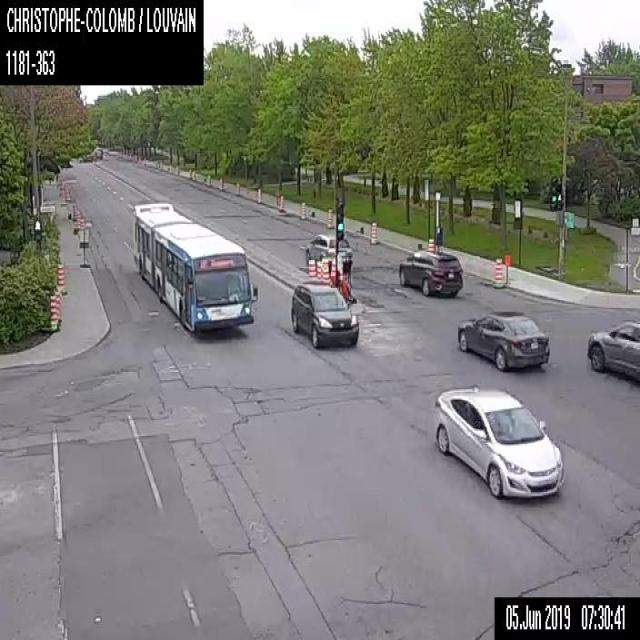bus: (132, 199, 257, 332)
construction: (78, 228, 90, 266), (49, 294, 59, 331), (56, 262, 66, 294), (493, 257, 501, 283), (54, 291, 60, 325), (369, 220, 377, 244), (504, 253, 510, 283), (326, 208, 334, 228), (308, 257, 316, 276), (320, 256, 327, 276), (299, 200, 305, 219), (329, 258, 335, 276), (426, 238, 434, 250), (58, 291, 61, 321), (315, 259, 320, 276), (71, 203, 76, 220), (76, 212, 81, 228), (280, 193, 284, 210), (322, 265, 328, 276), (79, 216, 85, 227), (257, 187, 261, 203), (218, 176, 222, 190), (236, 180, 240, 194), (207, 173, 211, 185), (60, 190, 64, 202), (64, 188, 67, 202), (188, 168, 192, 178), (192, 169, 195, 180)
vehicle: (434, 384, 564, 498), (457, 309, 549, 372), (290, 276, 358, 348), (396, 248, 464, 299), (587, 319, 639, 383), (304, 232, 352, 272)
